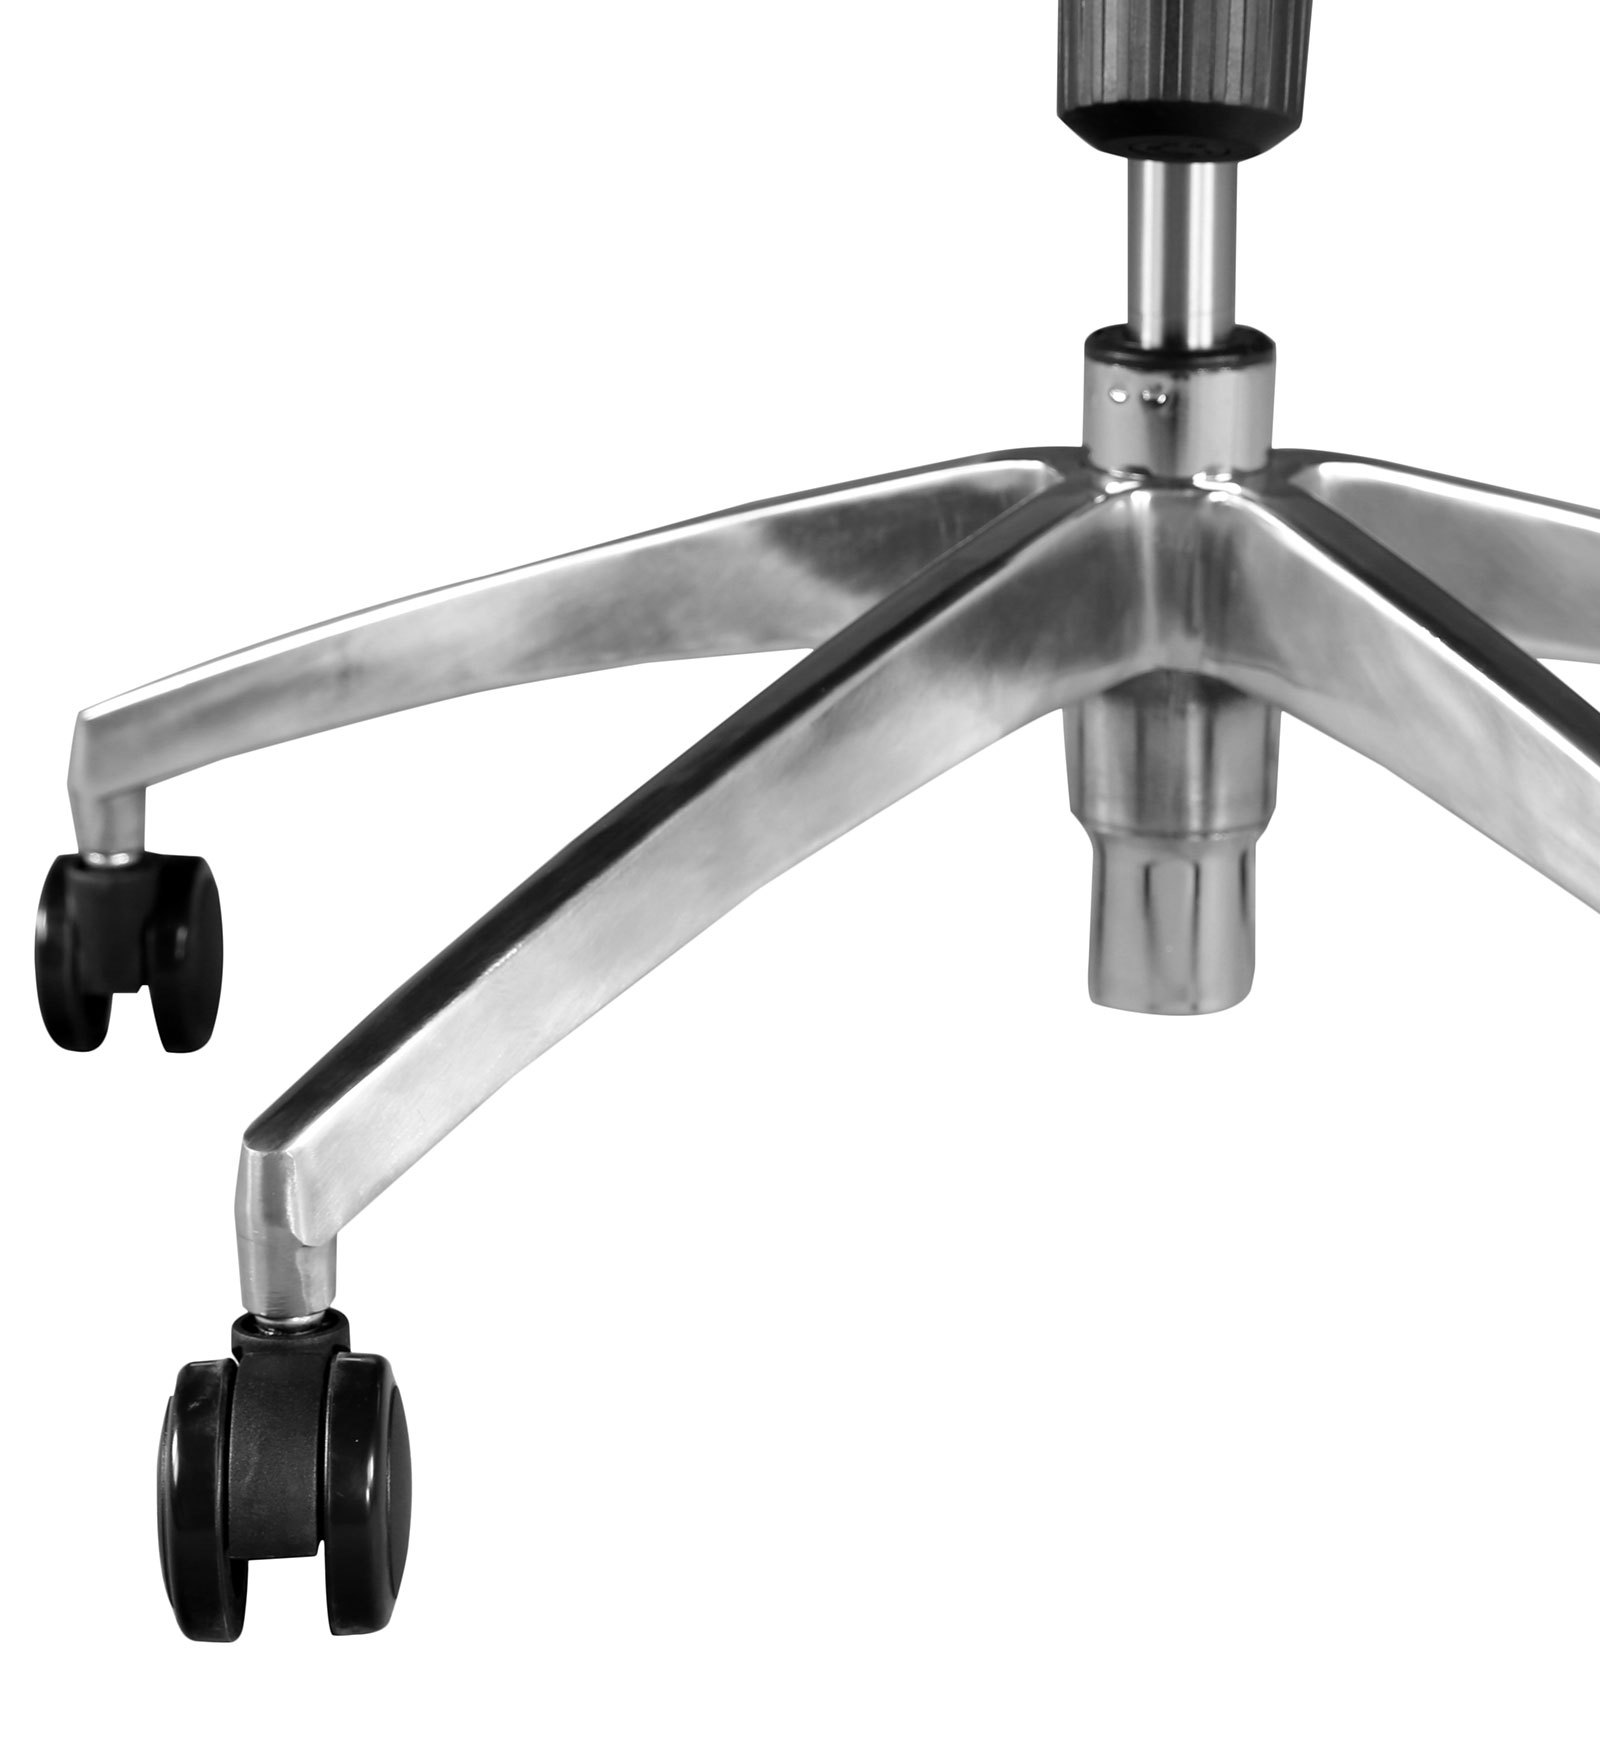Ergo High Back Ergonomic Chair in Black Colour by HomeTown: (20, 5, 1600, 1693)
